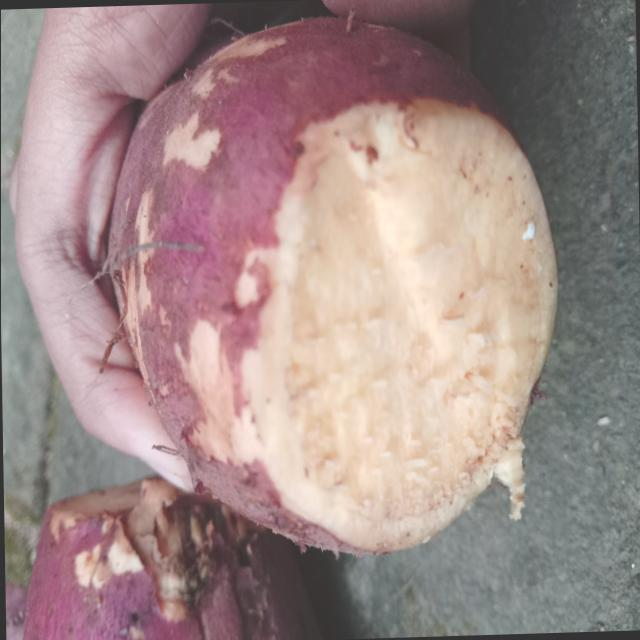Healthy Sweet Potato: (242, 98, 556, 553)
